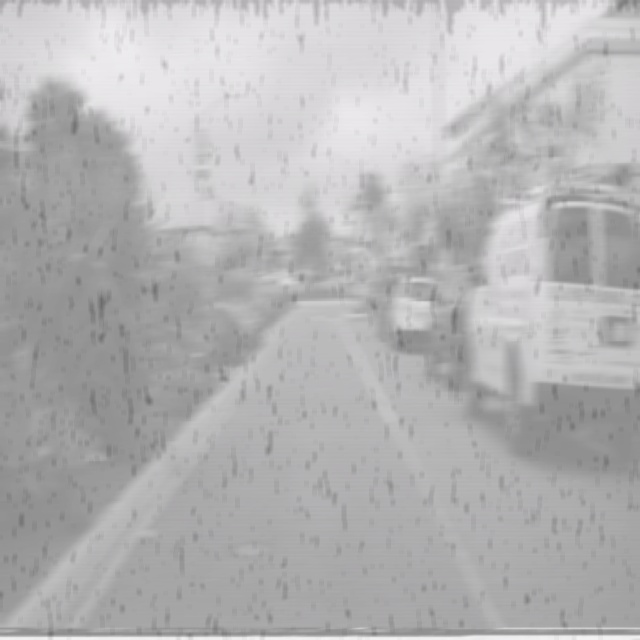pedestrianCrossing: (364, 246, 378, 274)
